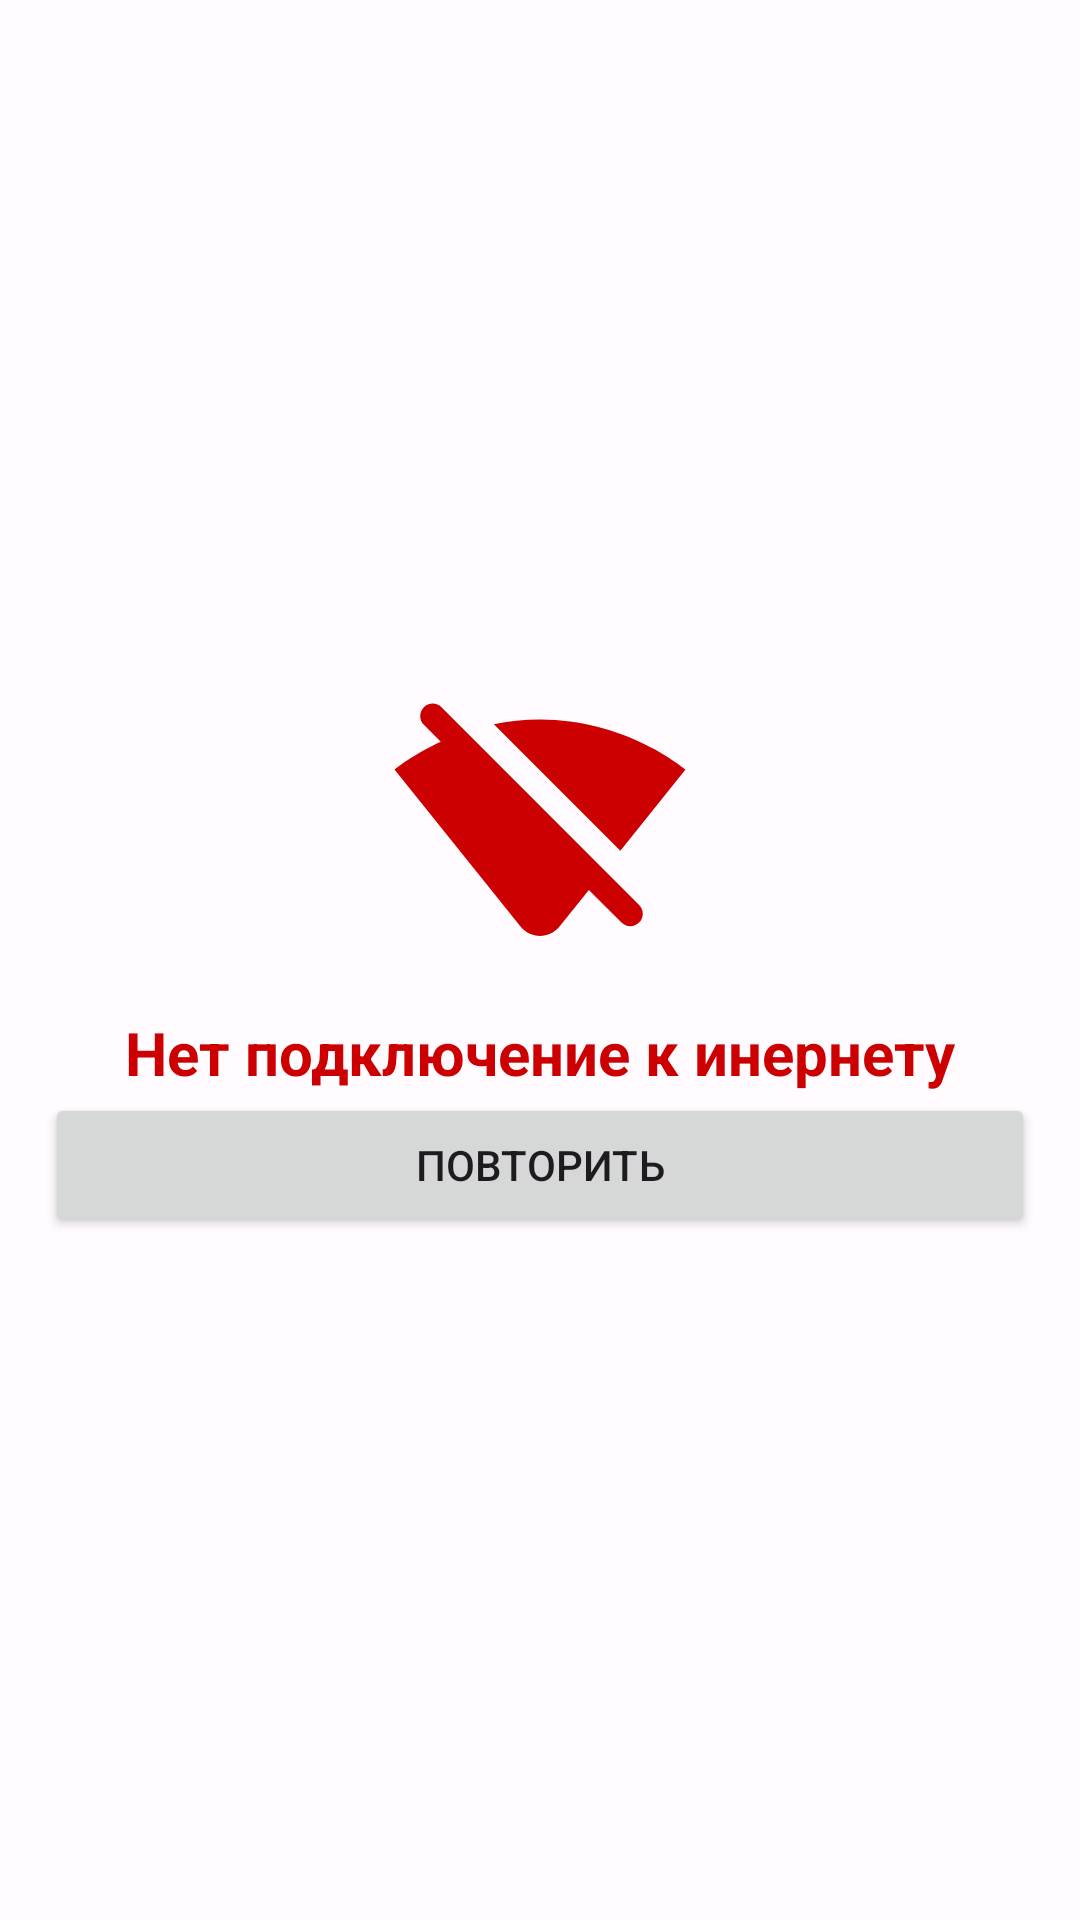

Named icons in this screenshot (1080×1920) and their centers, point (x, y):
wifi off: point (540, 819)
